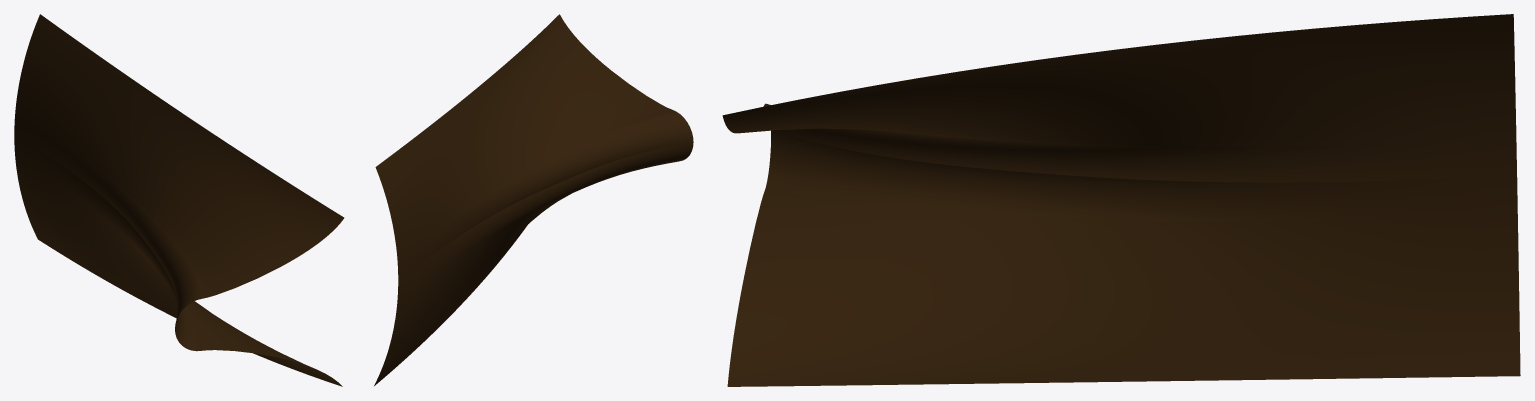
3 views of the same model, side by side, from view 1: azimuth 30°, elevation 25°; view 2: azimuth 150°, elevation 25°; view 3: azimuth 270°, elevation 25° (orthographic). The views are drawn at different scales.
Size of the model in its own units: 0.2164 by 0.3039 by 0.6069.
